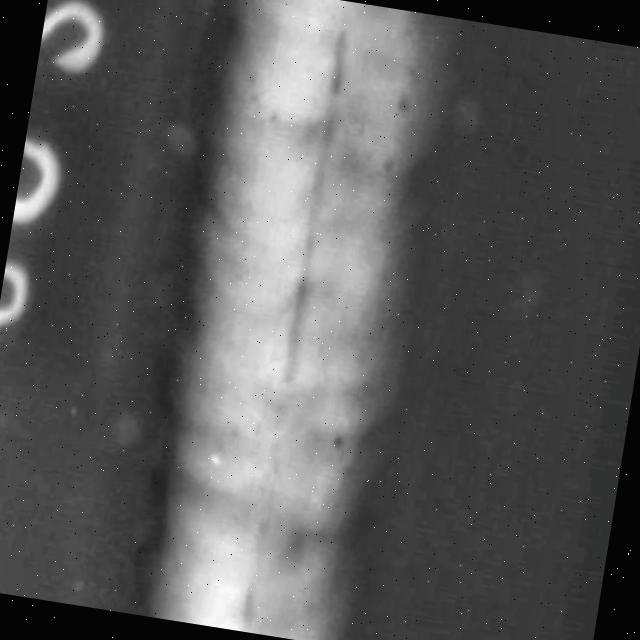LoP-LoF: (207, 0, 375, 626)
